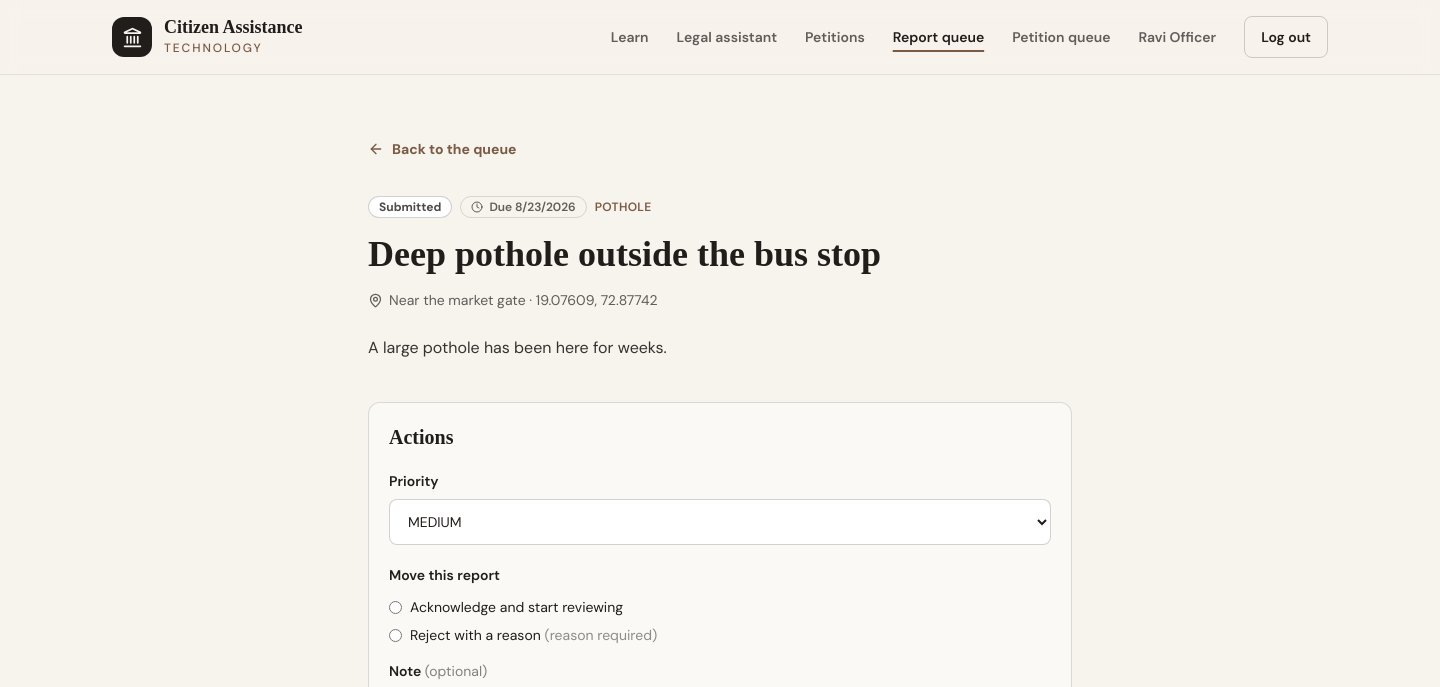
Test: AuthorityReportPage › performs a transition and shows the updated report
Expected: the heading "Deep pothole outside the bus stop" is shown, [368,234,881,274]
Click the radio button labelled "Acknowledge and start reviewing": x=396, y=608 [389,601,402,614]
(page scrolled)
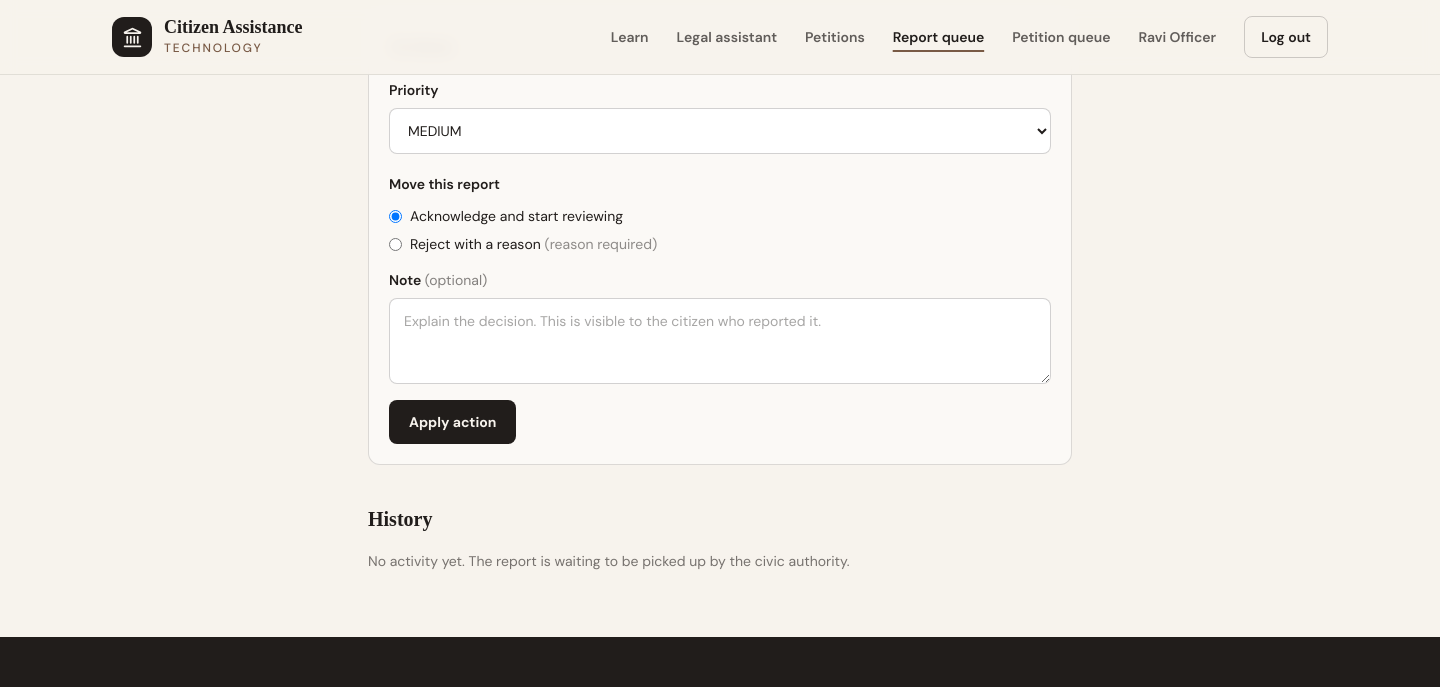
Click the button "Apply action": x=453, y=422 [389,400,516,444]
(page scrolled)
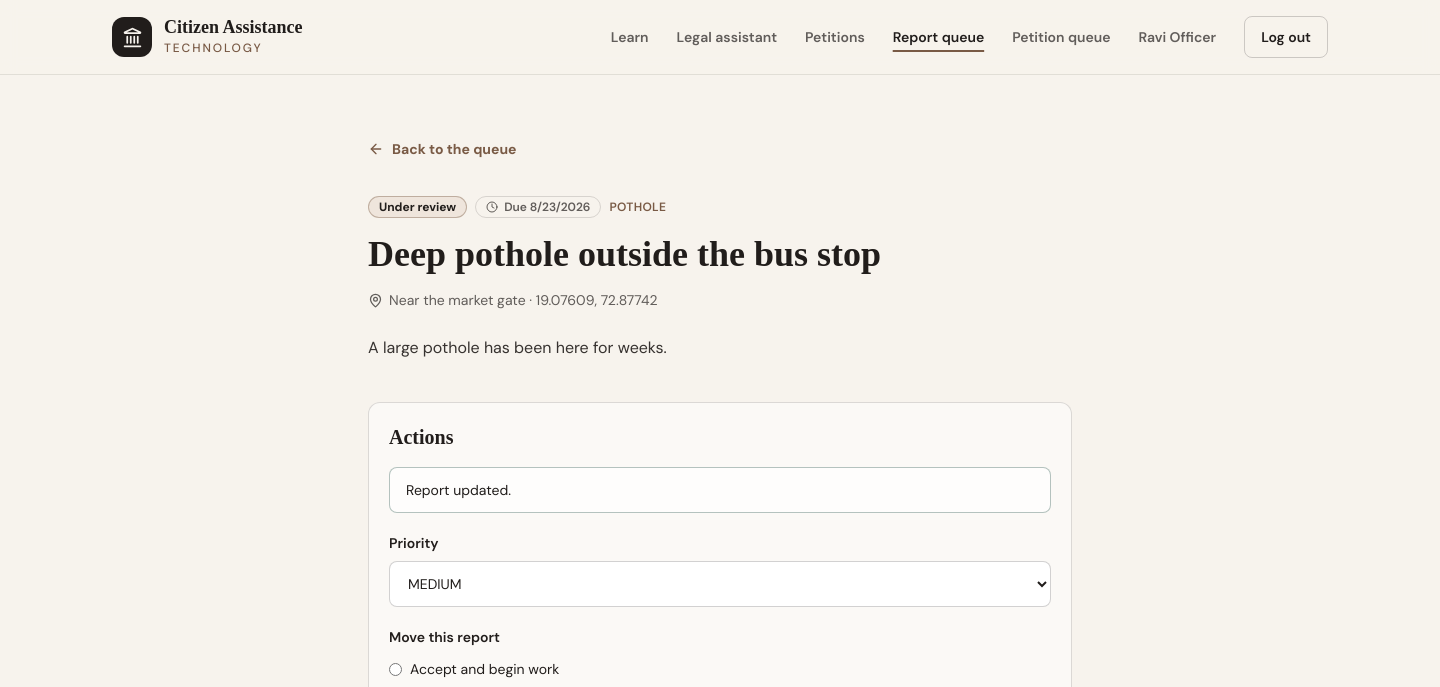
Result: the message reads "Report updated." at [406,481,511,499]
Result: the text "Under review" is shown at [368,196,467,218]
